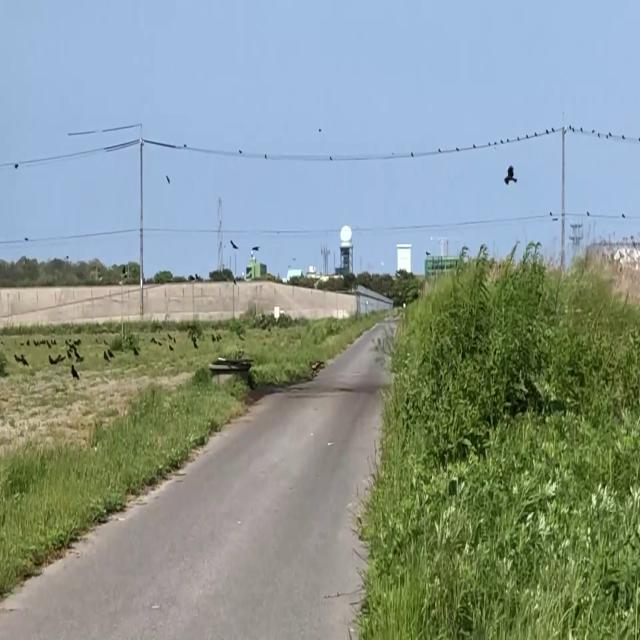bird: (504, 158, 517, 192), (230, 236, 238, 254), (72, 361, 78, 383), (166, 170, 170, 188), (24, 234, 30, 246), (104, 347, 108, 364), (212, 331, 215, 345)
